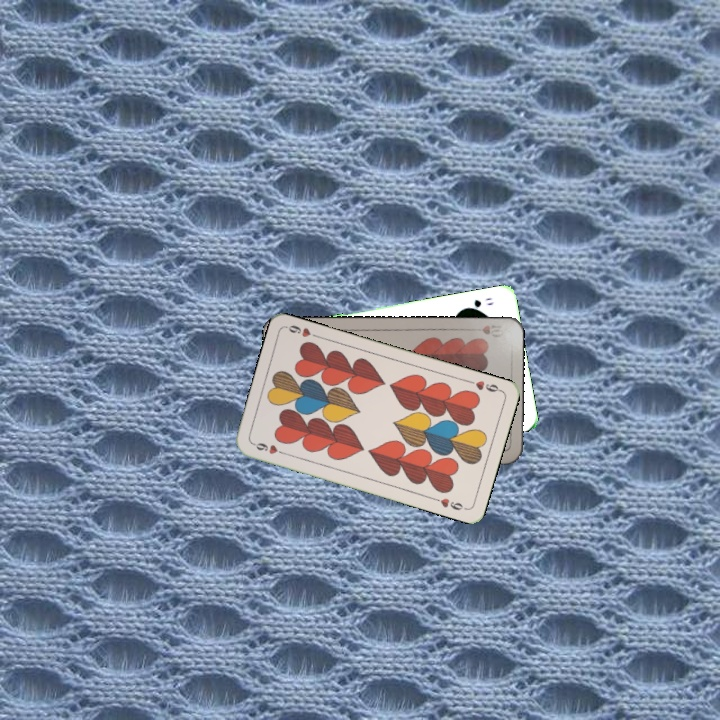GO: (461, 293, 496, 313)
H10: (478, 322, 507, 340)
H9: (464, 376, 504, 395), (249, 439, 288, 457)
